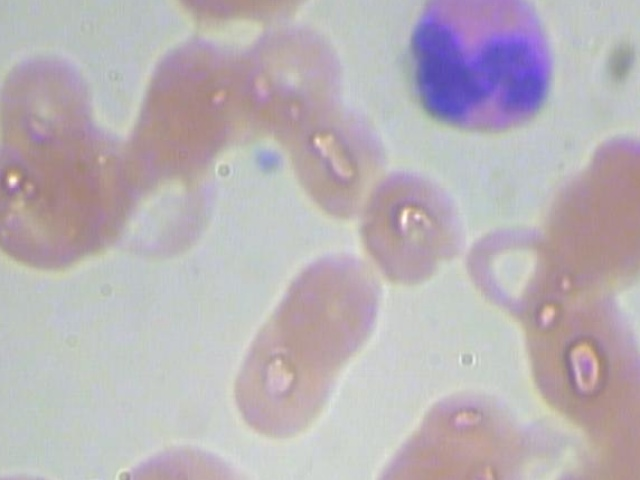Platelets: (247, 141, 290, 180)
RBC: (222, 299, 341, 447), (353, 161, 472, 289), (266, 244, 384, 372), (277, 92, 395, 220), (0, 38, 108, 166), (101, 437, 268, 480)
WBC: (386, 0, 566, 151)
